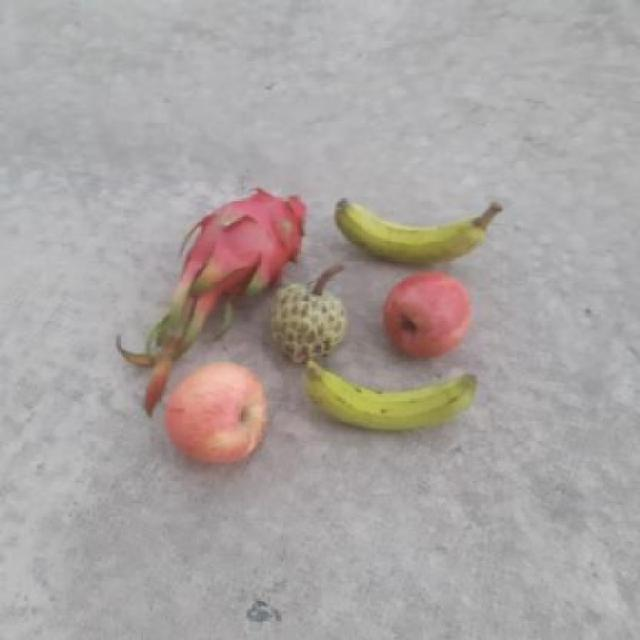apple: (168, 354, 270, 466), (377, 272, 478, 358)
banana: (296, 372, 496, 430), (332, 194, 503, 258)
dragon fruit: (196, 184, 307, 284)
sugar apple: (269, 278, 349, 360)
